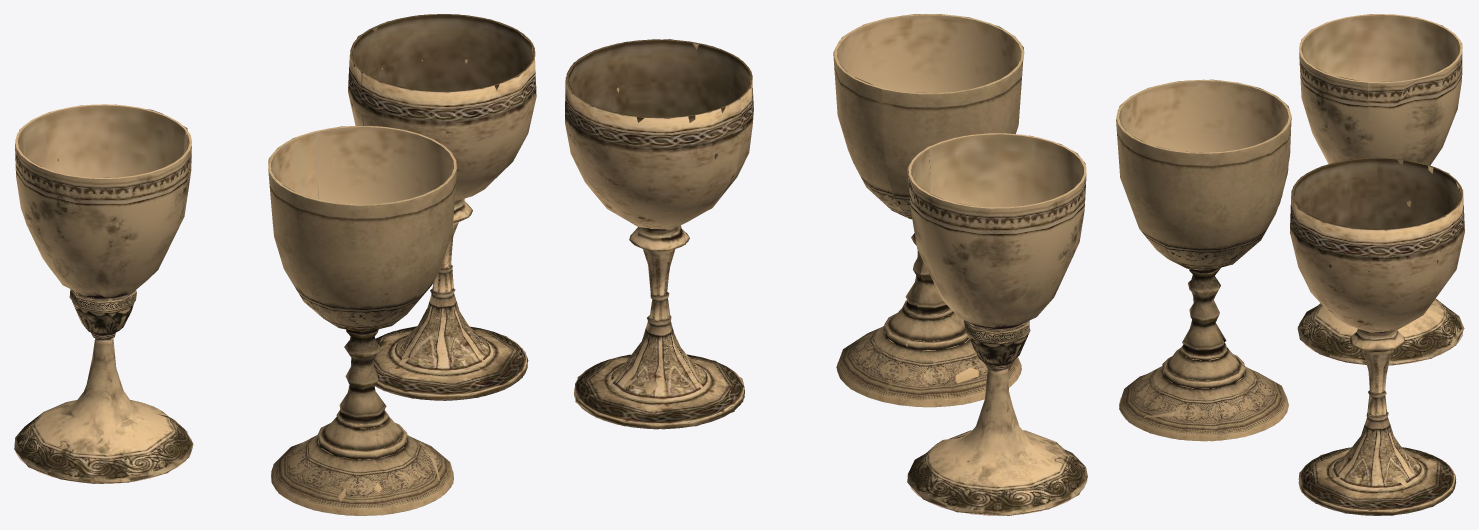
The model's file is ph_brass_goblets.glb.
The picture shows the model from 3 angles, left to right: view 1: azimuth 30°, elevation 25°; view 2: azimuth 150°, elevation 25°; view 3: azimuth 270°, elevation 25°; orthographic projection. The views are drawn at different scales.
Visible parts, largest first — view 1: brass_goblet_01; view 2: brass_goblet_01; view 3: brass_goblet_01.
Boxes of the visible parts, <box> form: brass_goblet_01: <box>14,14,536,515</box>; brass_goblet_01: <box>565,14,1087,515</box>; brass_goblet_01: <box>1116,14,1464,515</box>.
Bounding box in the file's own units: 0.4543 × 0.2734 × 0.298.
Materials: 3 (3 with a texture image).
